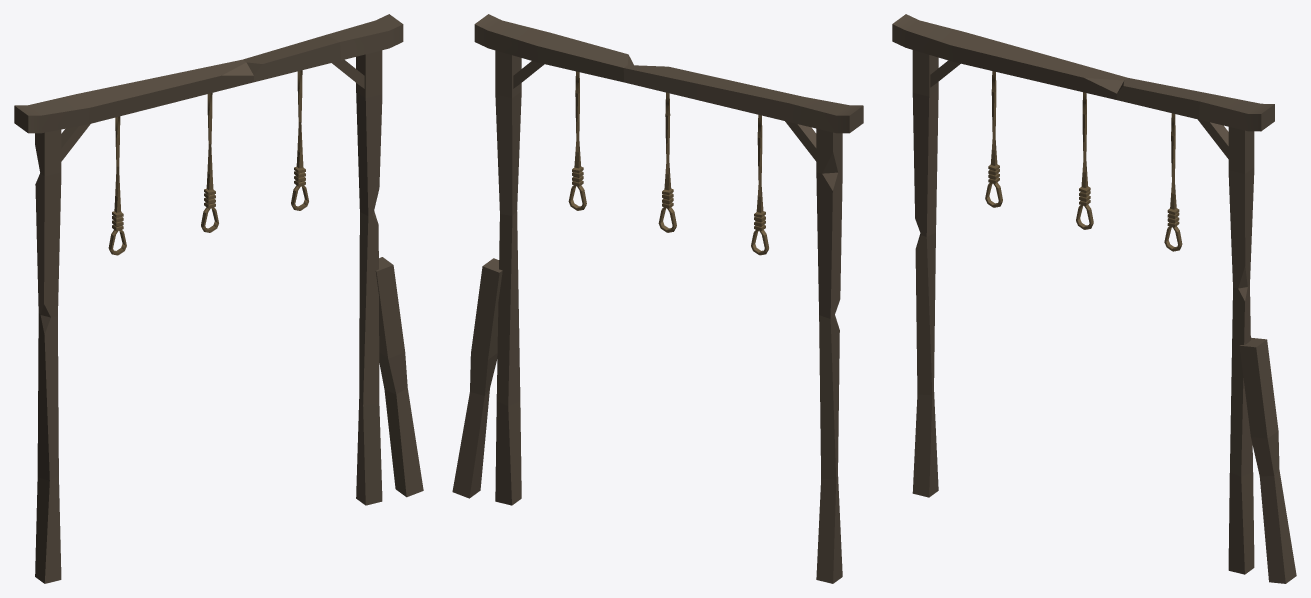
Rendered from SM_Prop_Gallows_02.glb.
3 views of the same model, side by side, from view 1: azimuth 30°, elevation 25°; view 2: azimuth 150°, elevation 25°; view 3: azimuth 330°, elevation 25° (orthographic).
Visible parts, largest first — view 1: SM_Prop_Gallows_02; view 2: SM_Prop_Gallows_02; view 3: SM_Prop_Gallows_02.
Part boxes in pixels (x1=…): SM_Prop_Gallows_02: x1=14, y1=14, x2=423, y2=583; SM_Prop_Gallows_02: x1=452, y1=14, x2=863, y2=583; SM_Prop_Gallows_02: x1=892, y1=14, x2=1296, y2=583.
Size of the model in its own units: 0.0477 by 0.0545 by 0.00315.
